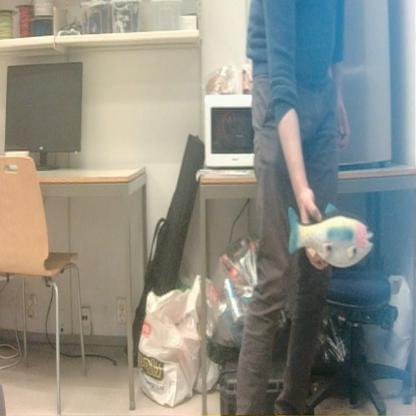rubberfish: (284, 196, 377, 276)
